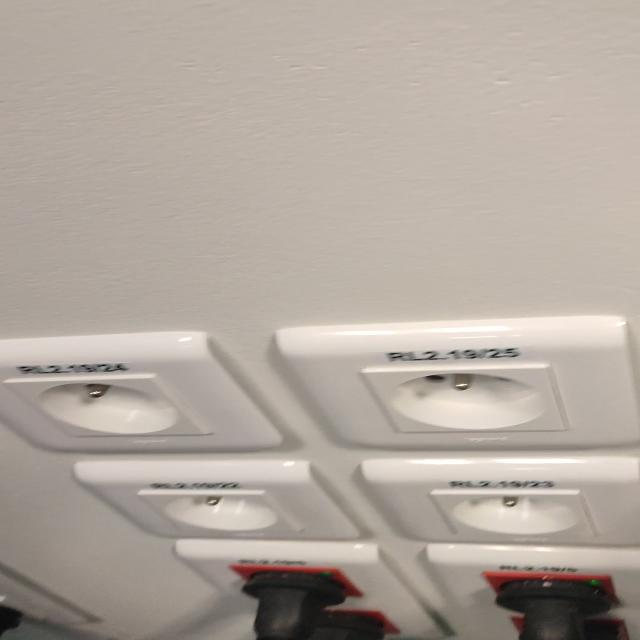house plug: (366, 366, 569, 432), (3, 376, 210, 437), (430, 491, 599, 537), (142, 490, 302, 534)
